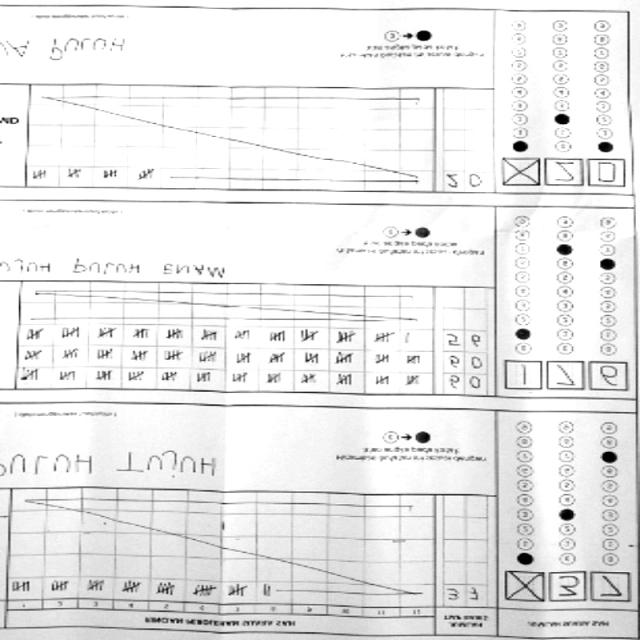Suara: (501, 567, 635, 609), (499, 358, 634, 399), (498, 153, 632, 194)
